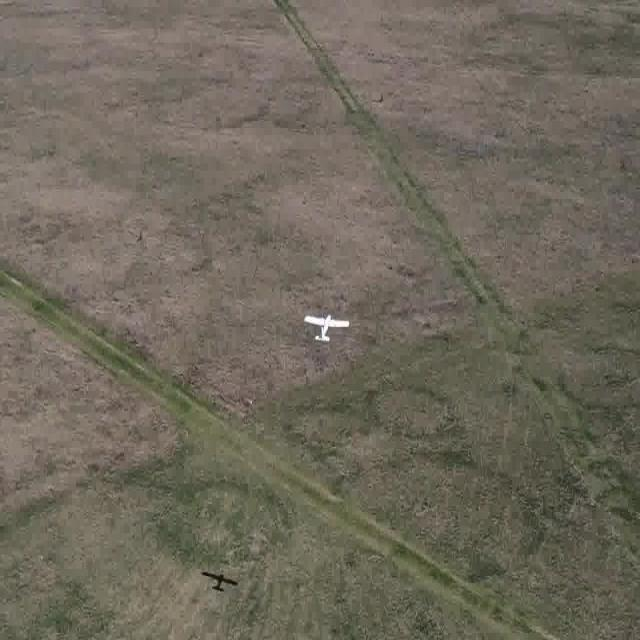iha: (298, 301, 351, 342)
